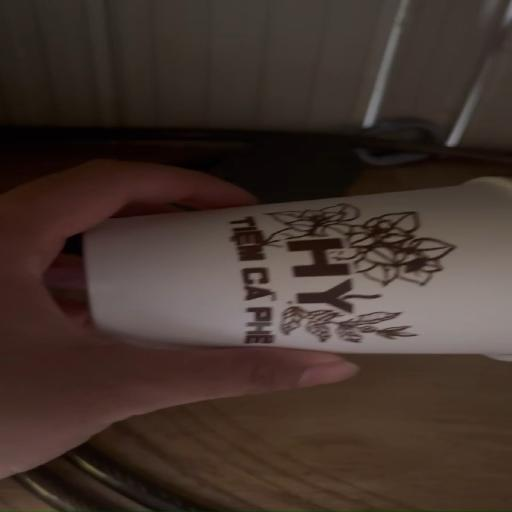Ly_giay: (83, 177, 511, 359)
